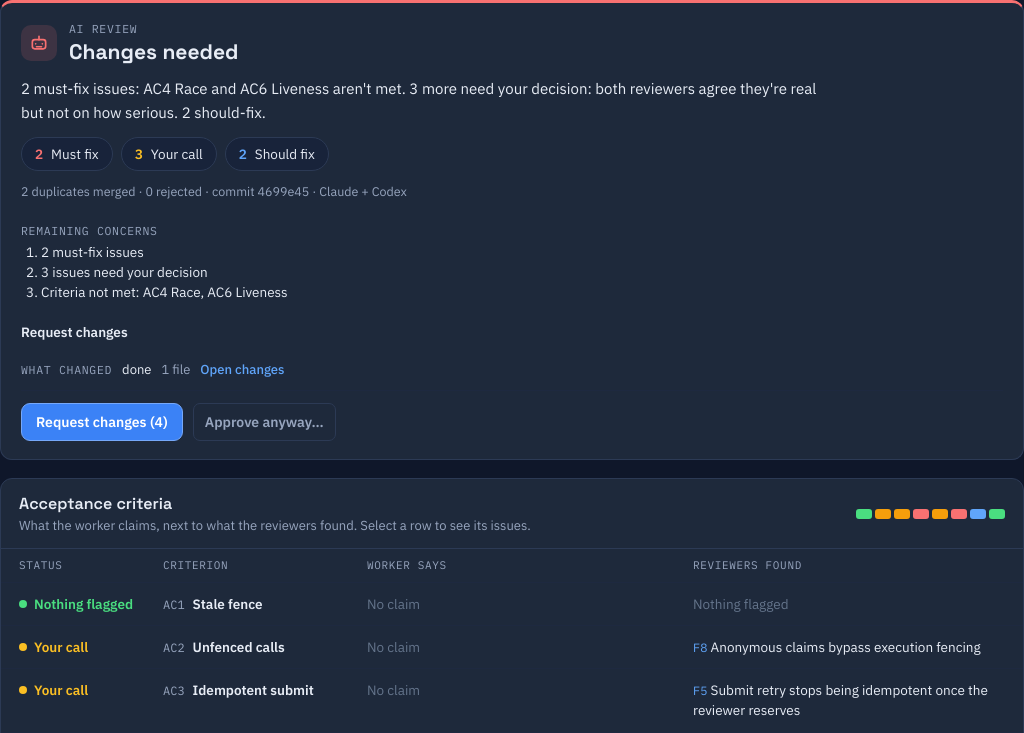
Scenario: ReviewPanel — approve › approving over must-fix issues asks why, and shows a server refusal inline
Click the button "Approve anyway…": (264, 422) top-left (193, 403), bottom-right (336, 441)
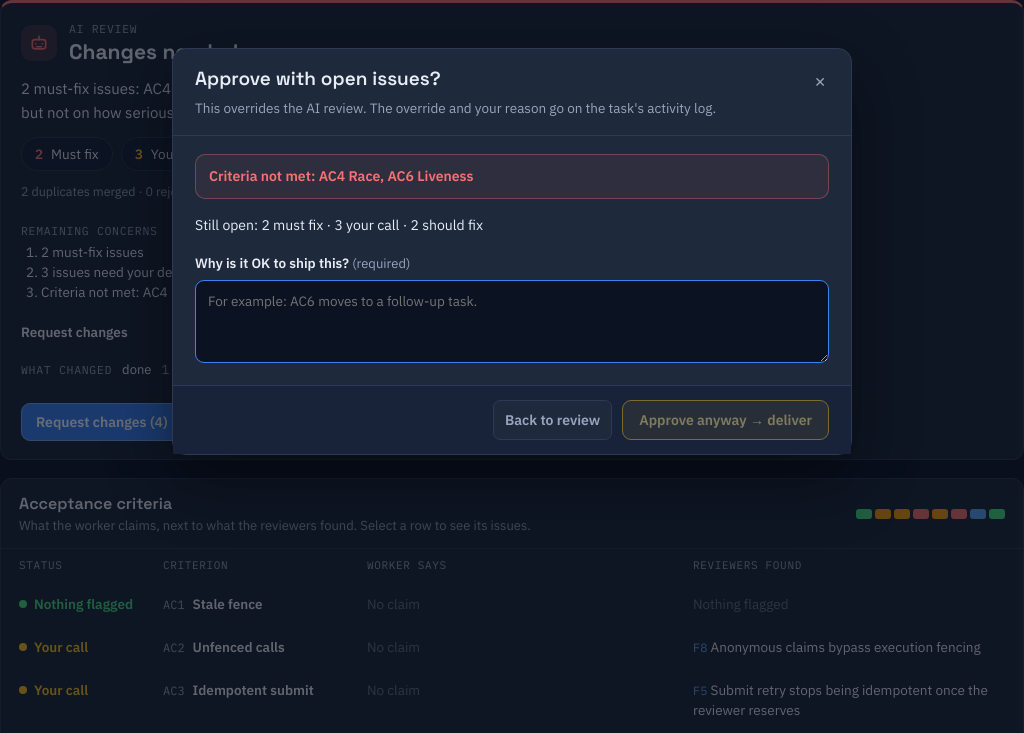
Result: the text "Criteria not met: AC4 Race, AC6 Liveness" is shown at top-left (195, 154), bottom-right (829, 199)
Result: the text "Still open: 2 must fix · 3 your call · 2 should fix" is shown at top-left (195, 216), bottom-right (483, 234)
Result: the button "Approve anyway → deliver" is disabled at top-left (622, 400), bottom-right (829, 440)
In the text box labelled "Why is it OK to ship this? (required)": (512, 322) top-left (195, 280), bottom-right (829, 363), type "AC6 moves to AF-150."
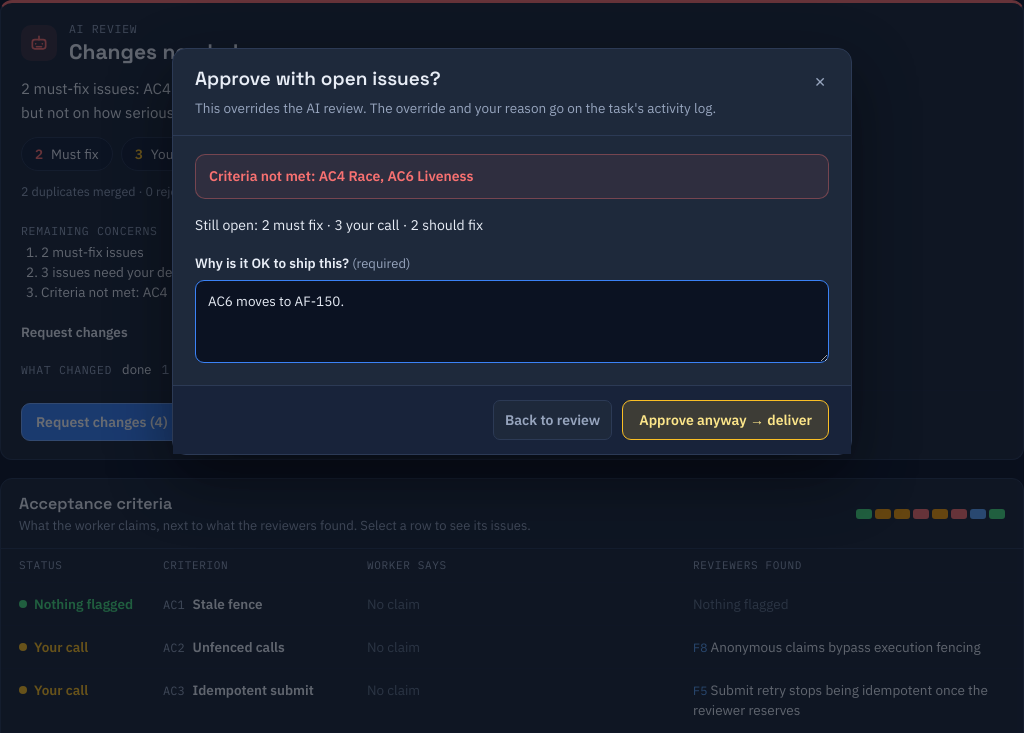
Click the button "Approve anyway → deliver": (726, 420) top-left (622, 400), bottom-right (829, 440)
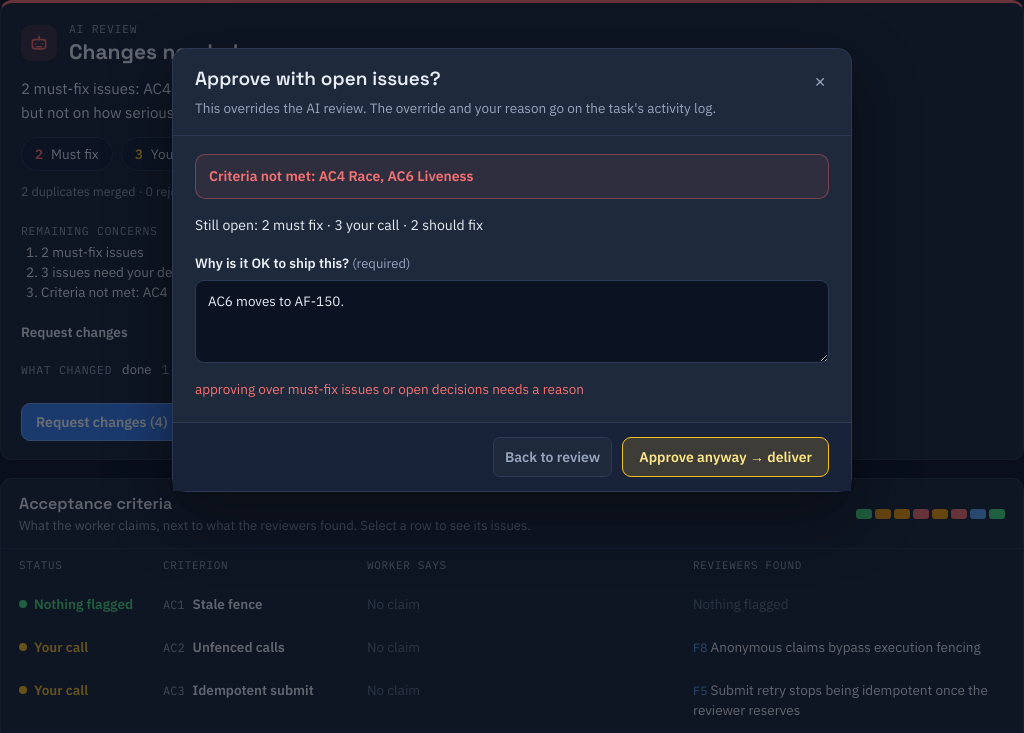
Result: the text "approving over must-fix issues or open decisions needs a reason" is shown at top-left (195, 380), bottom-right (584, 398)
